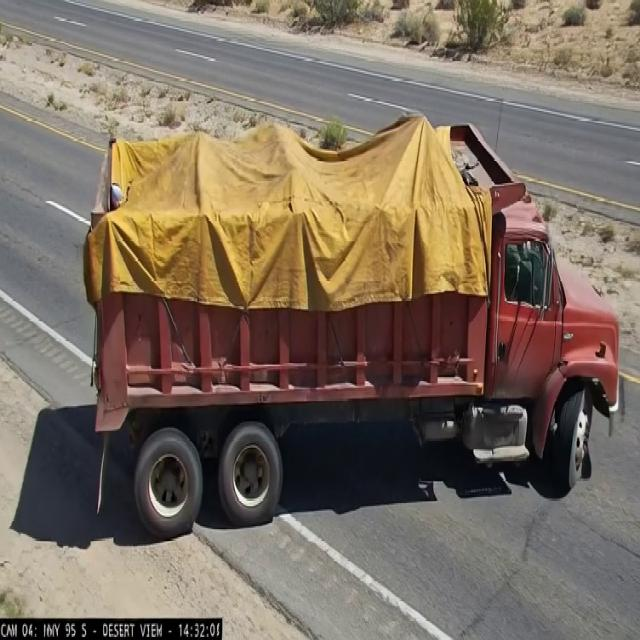Box: (92, 119, 528, 280)
Truck: (77, 108, 629, 523)
